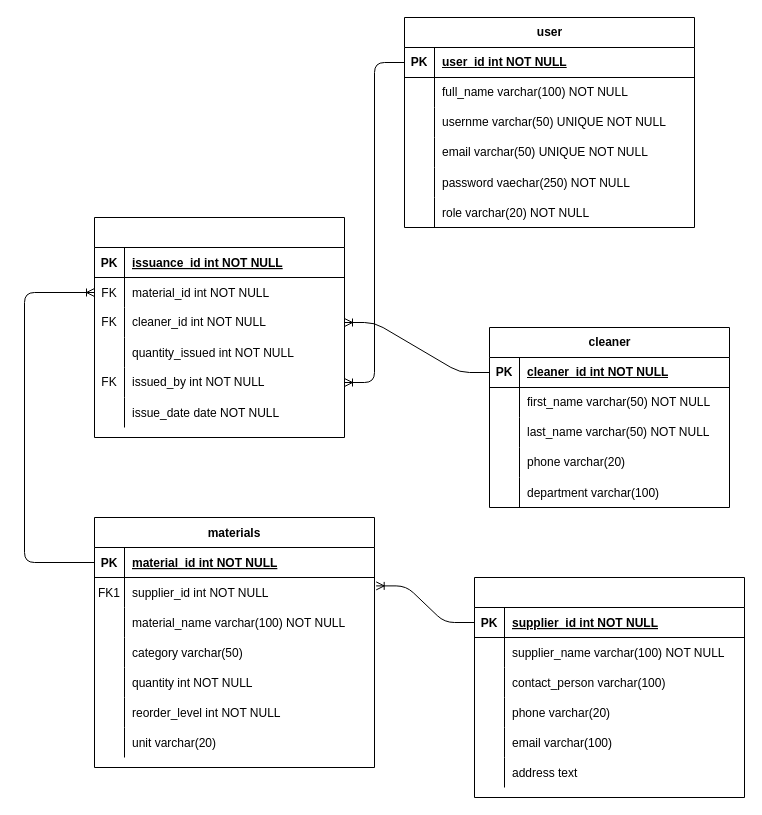
Some shapes in this 762 by 815 pixel diagram are drawn without their labels. Here are the shapes that lost their labels. From the top down, the box of each, then its label:
(94, 216, 344, 438): stock_issuance
(474, 576, 744, 798): suppliers
